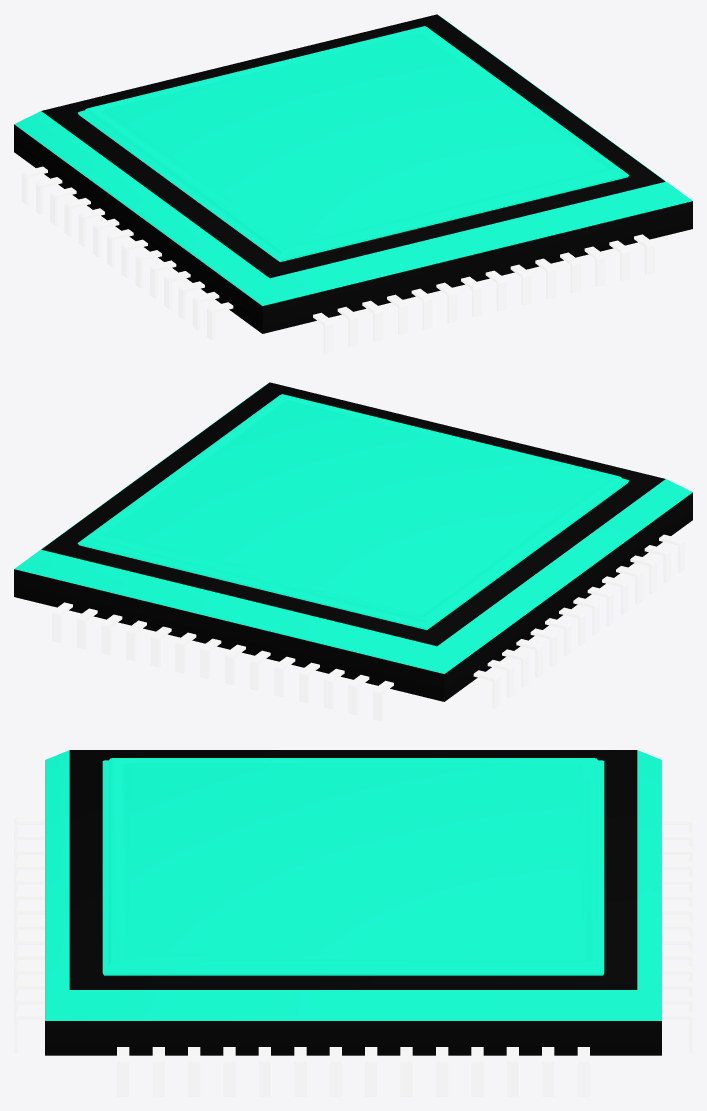
File: Microchip.glb
3 views of the same model, one above another, from view 1: azimuth 30°, elevation 25°; view 2: azimuth 150°, elevation 25°; view 3: azimuth 270°, elevation 25° (orthographic). The views are drawn at different scales.
Visible parts, largest first — view 1: BaseTop, BaseBottom, ChipWire; view 2: BaseTop, BaseBottom, ChipWire; view 3: BaseTop, BaseBottom, ChipWire.
Part boxes in pixels (x1,y1,x2,y2): BaseTop: [78, 26, 629, 261]; BaseBottom: [14, 14, 692, 333]; ChipWire: [21, 166, 654, 353]; BaseTop: [77, 394, 628, 629]; BaseBottom: [14, 382, 692, 701]; ChipWire: [52, 534, 685, 721]; BaseTop: [102, 758, 604, 975]; BaseBottom: [45, 750, 661, 1055]; ChipWire: [14, 816, 692, 1096].
Size of what is drawn, in the model's own units: 1.1 by 0.1711 by 1.1.
